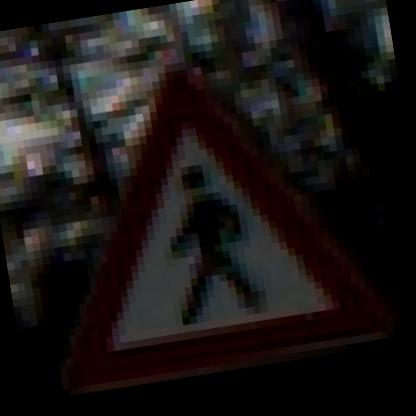crosswalk: (23, 12, 408, 400)
